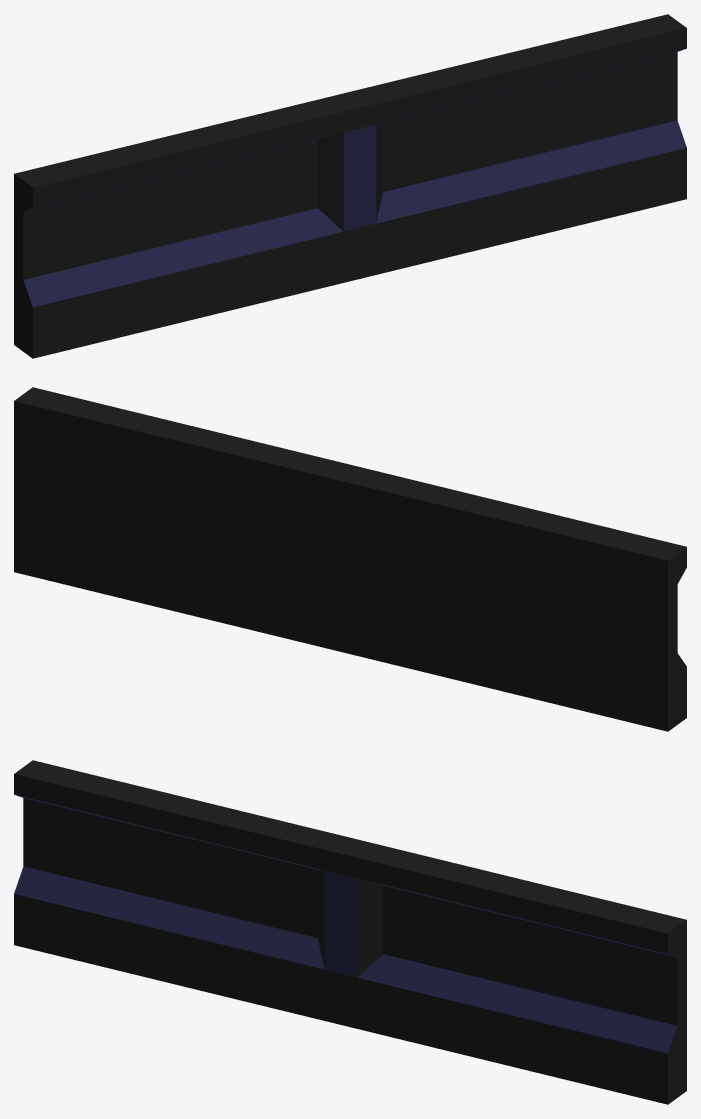
Rendered from plane_wall.obj.
3 views of the same model, one above another, from view 1: azimuth 30°, elevation 25°; view 2: azimuth 150°, elevation 25°; view 3: azimuth 330°, elevation 25° (orthographic).
Visible parts, largest first — view 1: PlaneWall_Plane.001; view 2: PlaneWall_Plane.001; view 3: PlaneWall_Plane.001.
Boxes of the visible parts, x1,y1,x2,y2 form: PlaneWall_Plane.001: [14, 14, 686, 358]; PlaneWall_Plane.001: [14, 387, 686, 731]; PlaneWall_Plane.001: [14, 760, 686, 1104].
Size of the model in its own units: 20 by 5 by 1.
